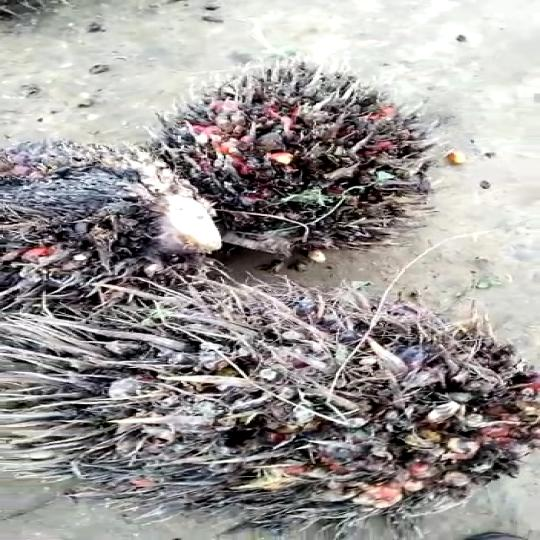terlalu masak: (0, 278, 540, 540), (191, 65, 427, 262), (0, 129, 210, 294)
